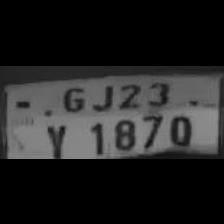0: (164, 110, 195, 146)
1: (81, 116, 107, 154)
2: (113, 78, 141, 110)
3: (142, 77, 172, 107)
7: (137, 110, 163, 148)
8: (108, 114, 135, 150)
G: (58, 79, 86, 112)
J: (88, 78, 114, 112)
Y: (40, 119, 70, 158)
